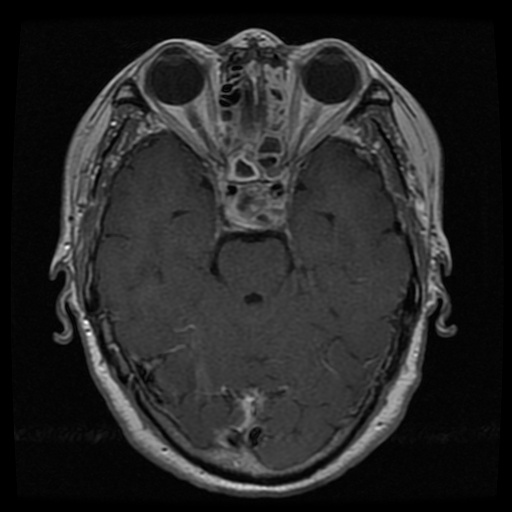pituitary: (225, 182, 289, 228)
